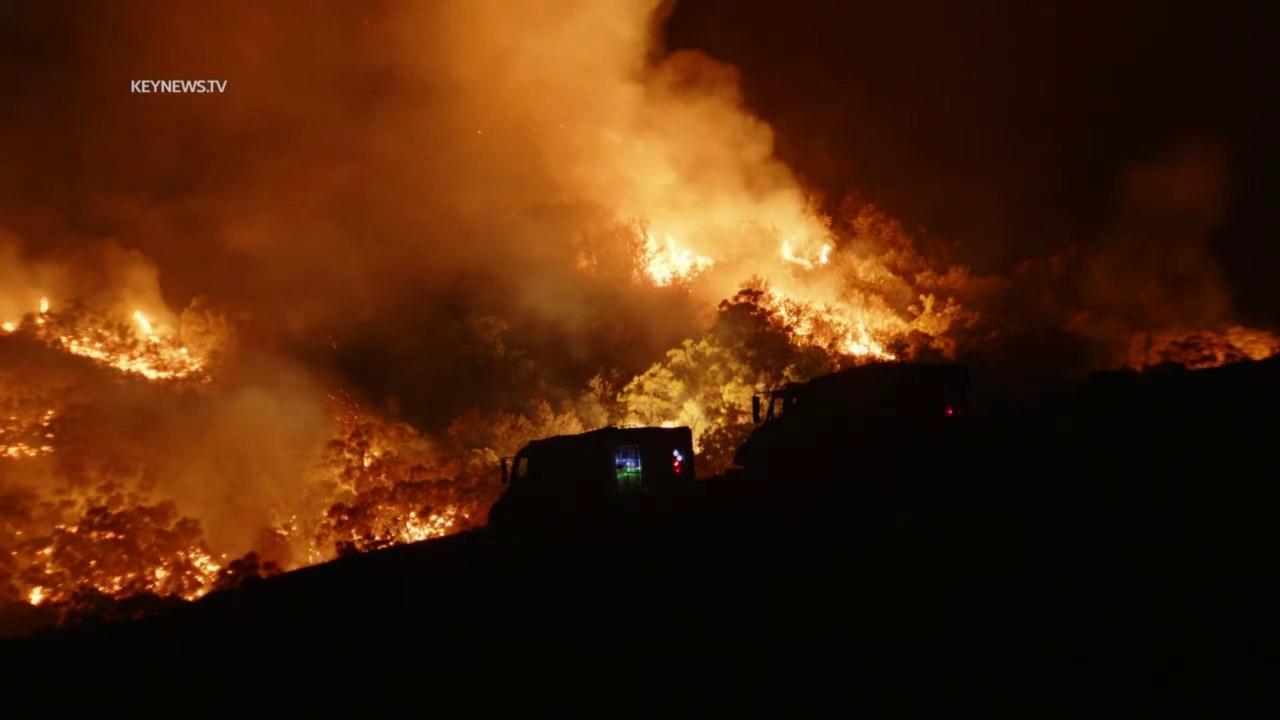fire: (58, 308, 206, 381), (765, 286, 897, 361), (88, 544, 226, 604), (634, 228, 716, 290), (0, 418, 80, 462), (402, 503, 458, 544), (780, 236, 835, 272), (25, 584, 65, 609), (32, 547, 60, 576), (34, 294, 50, 326), (361, 446, 380, 470), (351, 527, 367, 554), (55, 523, 81, 534), (0, 321, 19, 334), (10, 549, 19, 557), (14, 530, 24, 537)
smoke: (0, 0, 1237, 647)
